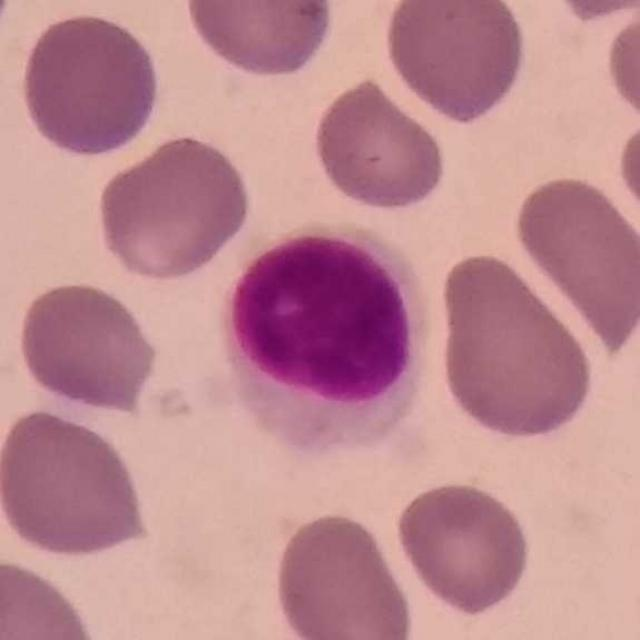Lymphocyte: (206, 219, 426, 455)
RBC: (432, 246, 601, 445), (91, 130, 256, 284), (508, 171, 640, 358), (0, 403, 154, 562), (17, 9, 165, 160), (308, 71, 451, 216), (14, 276, 162, 414), (392, 476, 535, 618), (268, 506, 419, 640), (379, 0, 531, 126), (181, 0, 337, 81), (0, 552, 106, 640), (602, 1, 640, 129), (614, 102, 640, 258), (544, 0, 638, 23)
